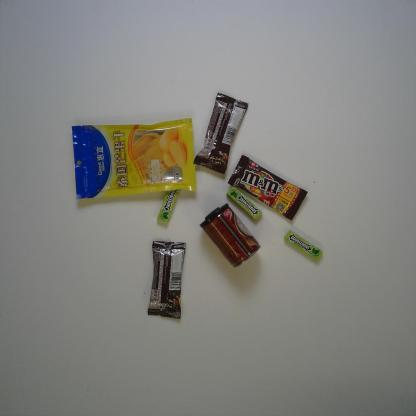Canned Food: (198, 203, 262, 269)
Chocolate: (228, 154, 309, 222), (192, 92, 250, 176), (147, 240, 186, 320)
Dried Fruit: (71, 118, 197, 199)
Gum: (226, 186, 263, 221), (283, 230, 323, 262), (157, 182, 181, 223)
